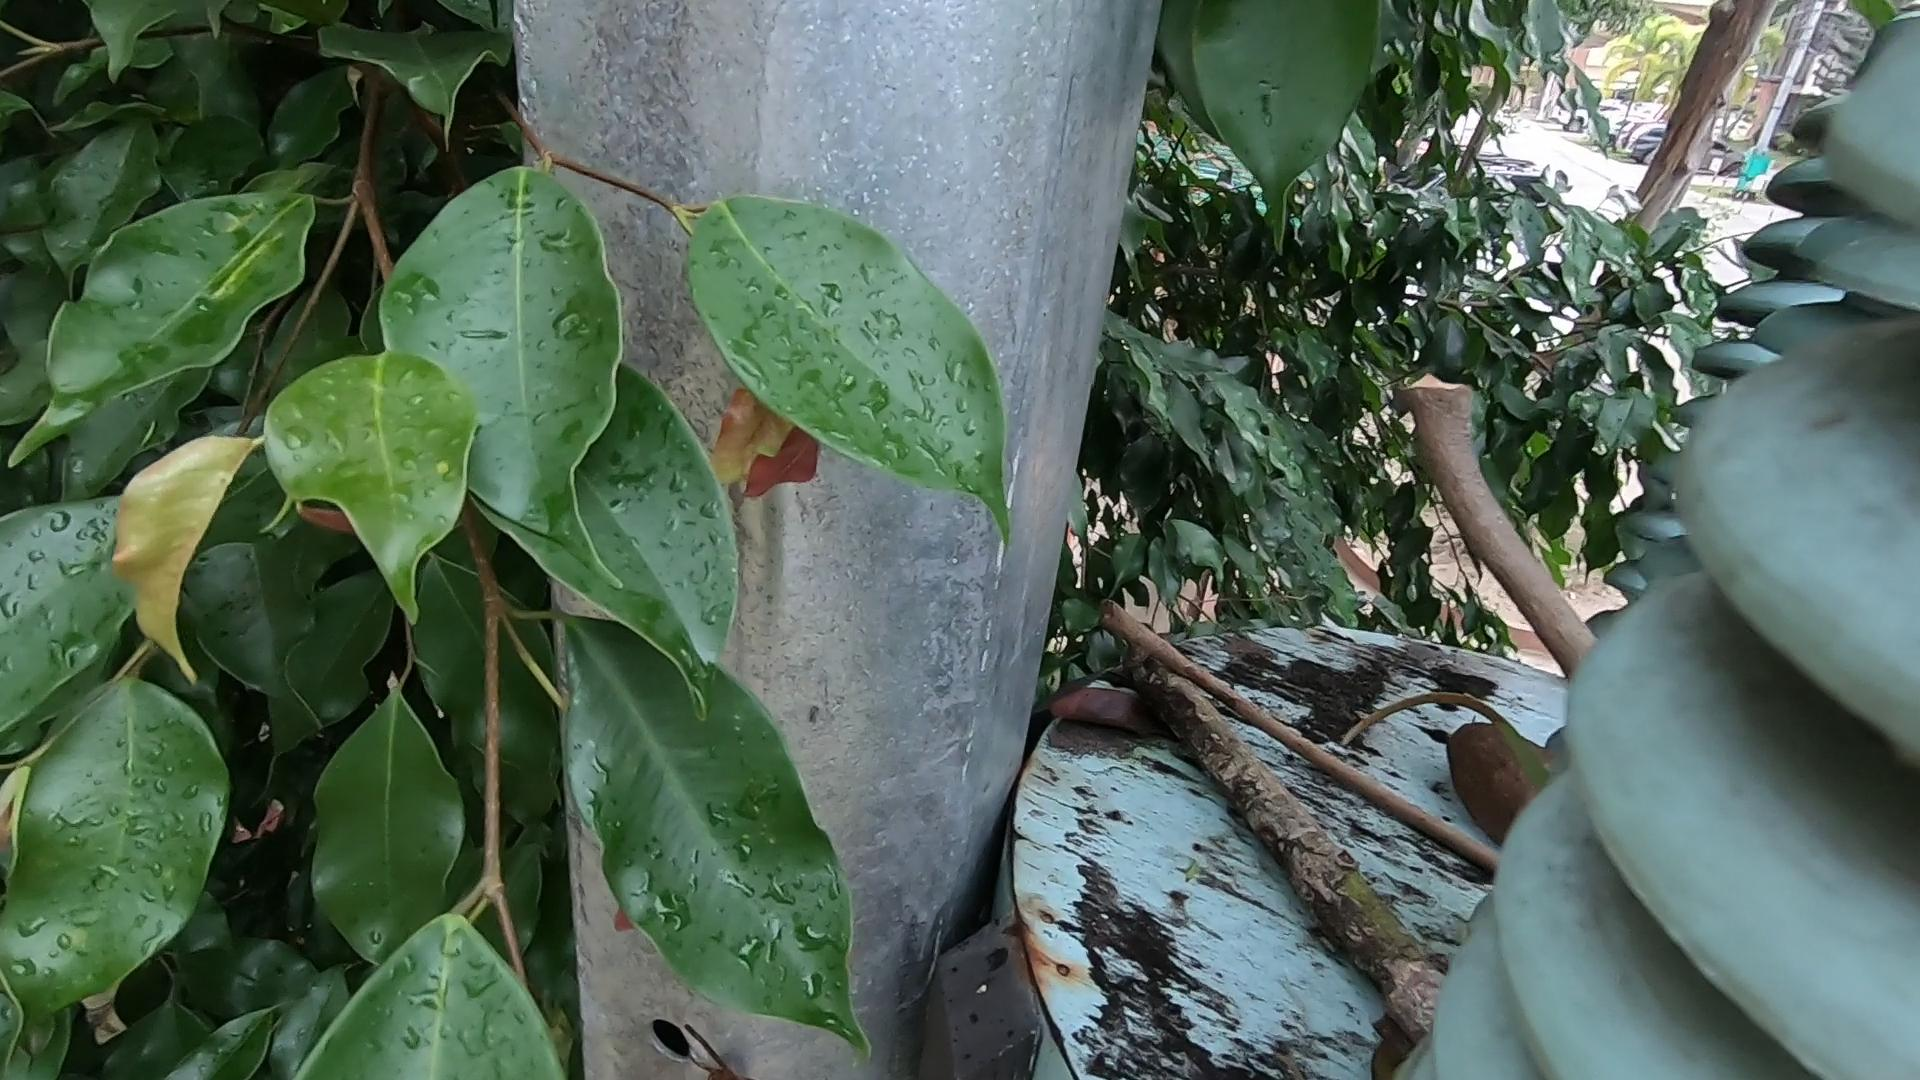branch with leaves: (1098, 611, 1435, 994)
mahogany fruit: (1414, 669, 1534, 818)
tree branch: (1313, 255, 1640, 686), (1106, 584, 1466, 855)
